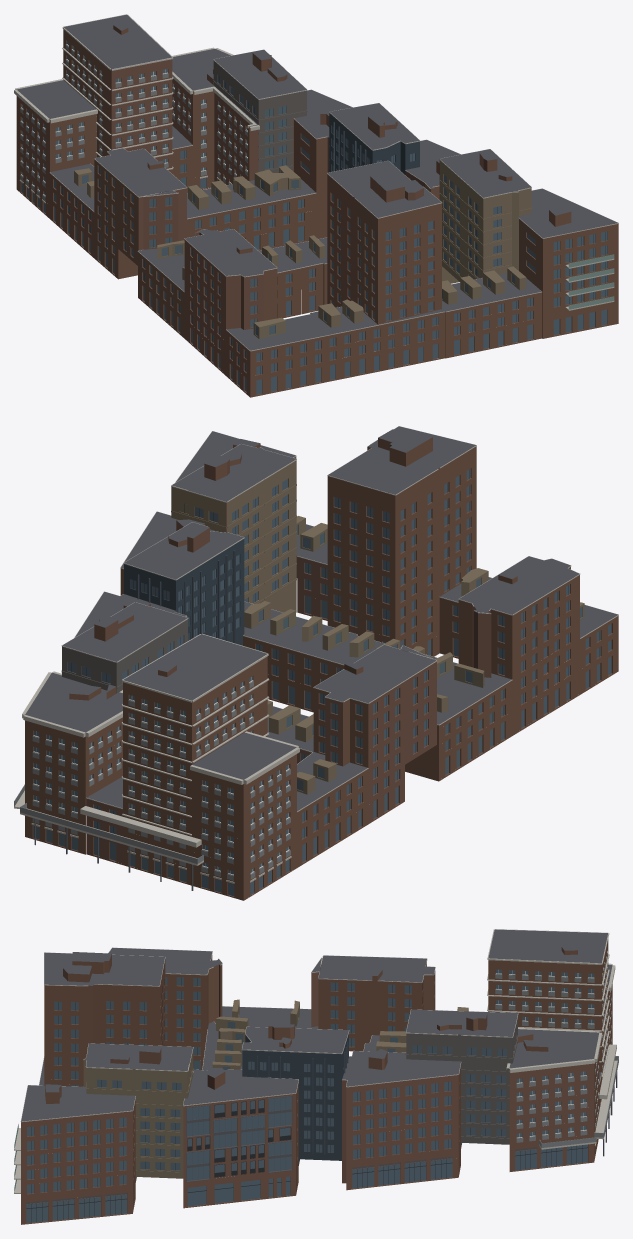
The model's file is westerdok-748.glb.
3 views of the same model, one above another, from view 1: azimuth 30°, elevation 25°; view 2: azimuth 150°, elevation 25°; view 3: azimuth 270°, elevation 25° (orthographic). The views are drawn at different scales.
Visible parts, largest first — view 1: westerdok-748; view 2: westerdok-748; view 3: westerdok-748.
Part boxes in pixels (x1=…): westerdok-748: x1=14, y1=14, x2=618, y2=397; westerdok-748: x1=14, y1=426, x2=618, y2=900; westerdok-748: x1=14, y1=929, x2=618, y2=1224.
Bounding box in the file's own units: 85.11 × 38.02 × 123.
